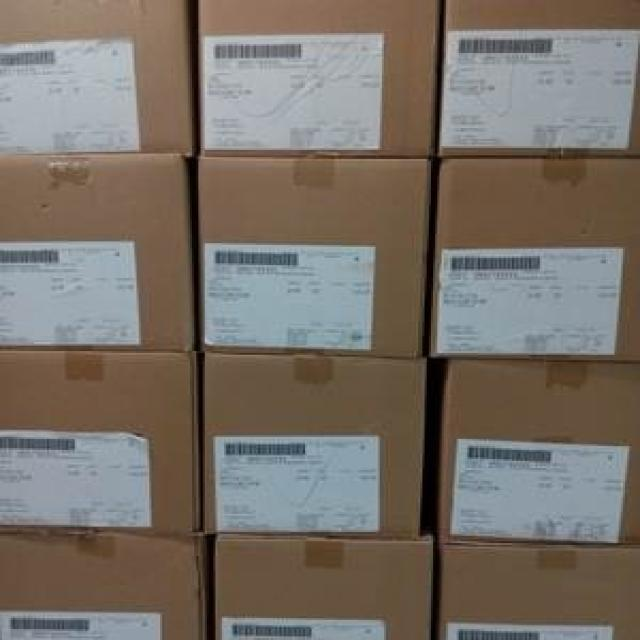box: (198, 157, 429, 357), (429, 157, 640, 360), (205, 355, 429, 539), (196, 0, 442, 157), (437, 358, 640, 547), (0, 155, 194, 351), (0, 347, 203, 532), (433, 0, 640, 159), (0, 528, 207, 640), (215, 534, 433, 640), (439, 545, 640, 640)
